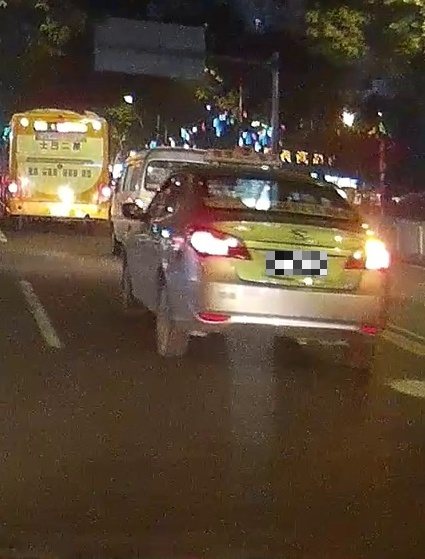L_light: (186, 225, 252, 261), (7, 181, 18, 194)
R_light: (343, 237, 391, 271), (99, 186, 112, 199)
T_light: (266, 178, 295, 184), (55, 120, 73, 125)
night-no: (6, 109, 112, 236)
night-right: (185, 163, 391, 370)
plate_1: (266, 251, 327, 275)
